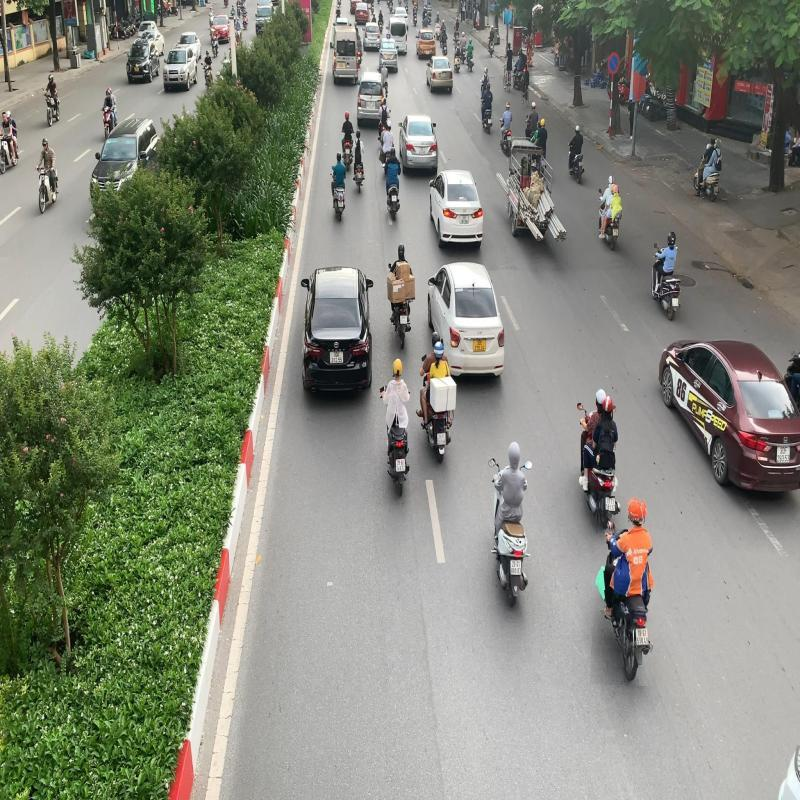helmet: (626, 497, 644, 526)
licenseplate: (634, 626, 650, 648)
motorcyclist: (592, 496, 660, 686)
